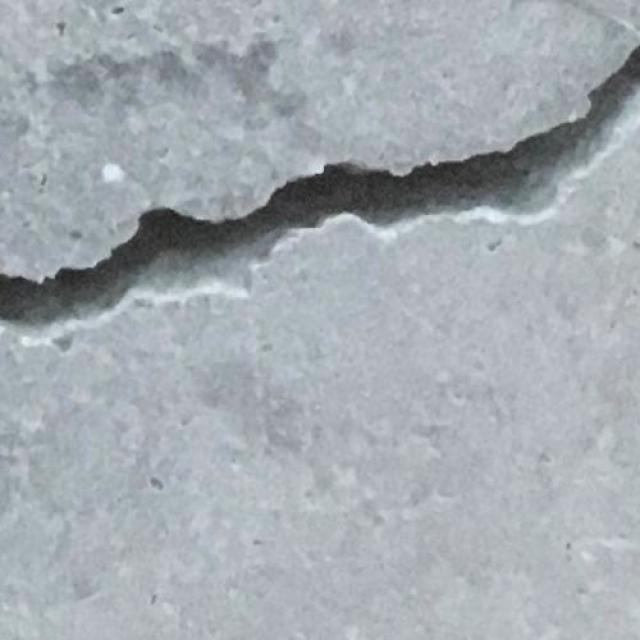diagonal crack: (0, 20, 640, 374)
